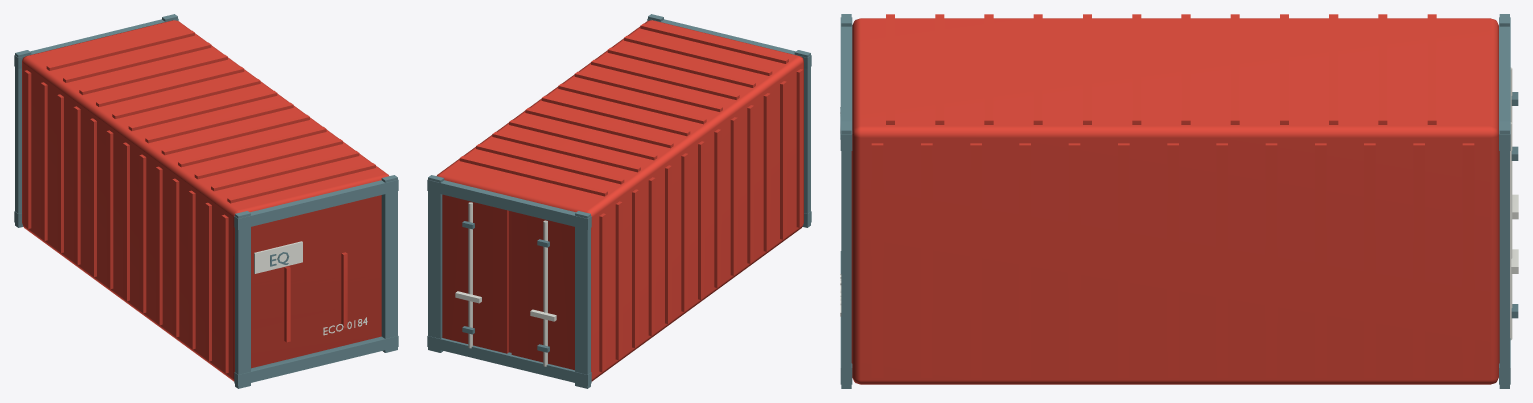
File: container-red.glb
The picture shows the model from 3 angles, left to right: view 1: azimuth 30°, elevation 25°; view 2: azimuth 150°, elevation 25°; view 3: azimuth 270°, elevation 25°; orthographic projection. The views are drawn at different scales.
Visible parts, largest first — view 1: freight container, corner casting, locking bar; view 2: freight container, corner casting, locking bar; view 3: freight container, corner casting, locking bar.
Part boxes in pixels (x1,y1,x2,y2): freight container: [22, 20, 388, 381]; corner casting: [14, 14, 398, 388]; locking bar: [254, 241, 367, 335]; freight container: [437, 20, 803, 381]; corner casting: [427, 14, 811, 388]; locking bar: [455, 202, 556, 366]; freight container: [851, 14, 1499, 384]; corner casting: [840, 14, 1518, 388]; locking bar: [840, 67, 1518, 339].
Bounding box in the file's own units: 1.1 × 1.12 × 2.62.
